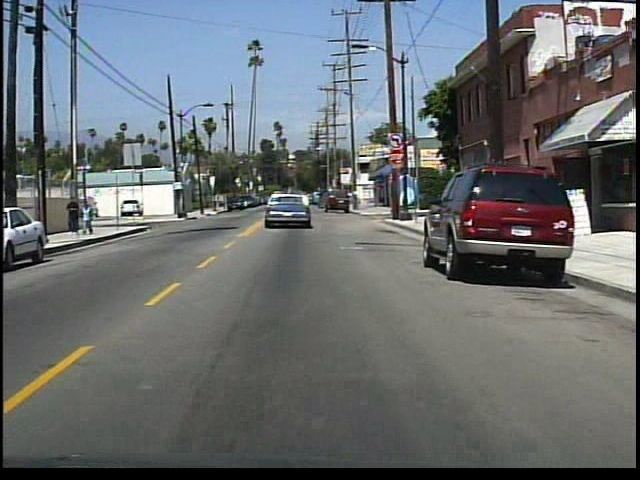person: (67, 194, 84, 235), (81, 200, 98, 236)
